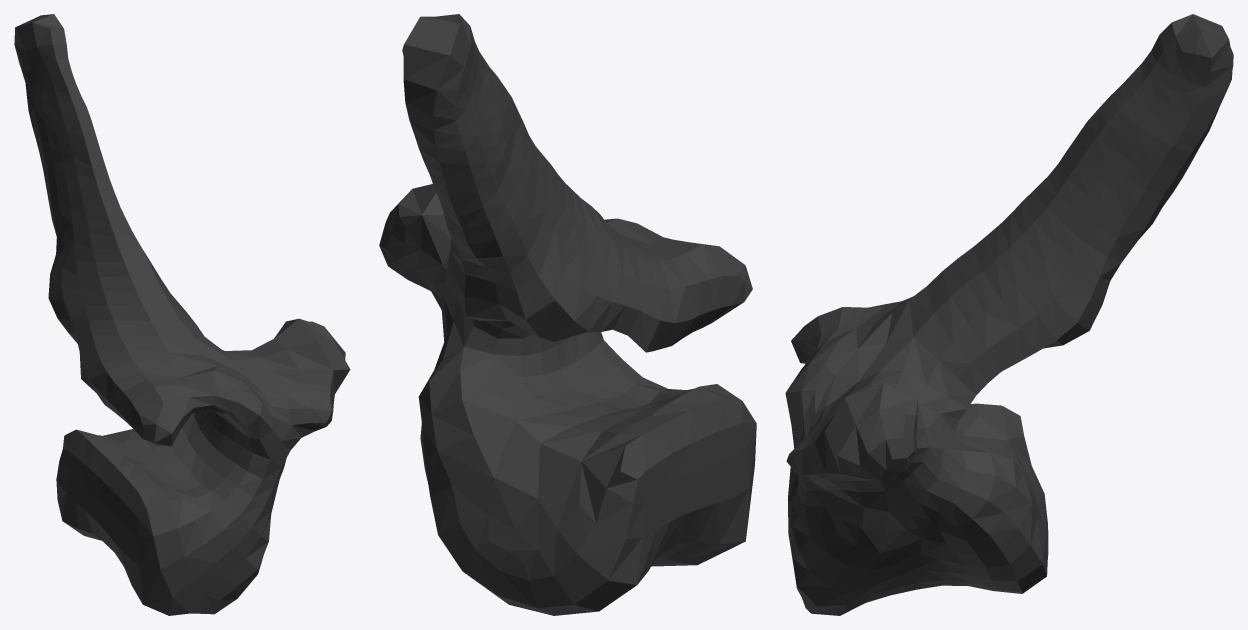
The picture shows the model from 3 angles, left to right: view 1: azimuth 30°, elevation 25°; view 2: azimuth 150°, elevation 25°; view 3: azimuth 270°, elevation 25°; orthographic projection. The views are drawn at different scales.
Visible parts, largest first — view 1: T8; view 2: T8; view 3: T8.
Boxes of the visible parts, left/top/right/bottom form: T8: left=14, top=14, right=350, bottom=615; T8: left=379, top=14, right=756, bottom=615; T8: left=785, top=14, right=1233, bottom=615.
Bounding box in the file's own units: 0.00704 × 0.0145 × 0.01.
1 material, 1 textured.
